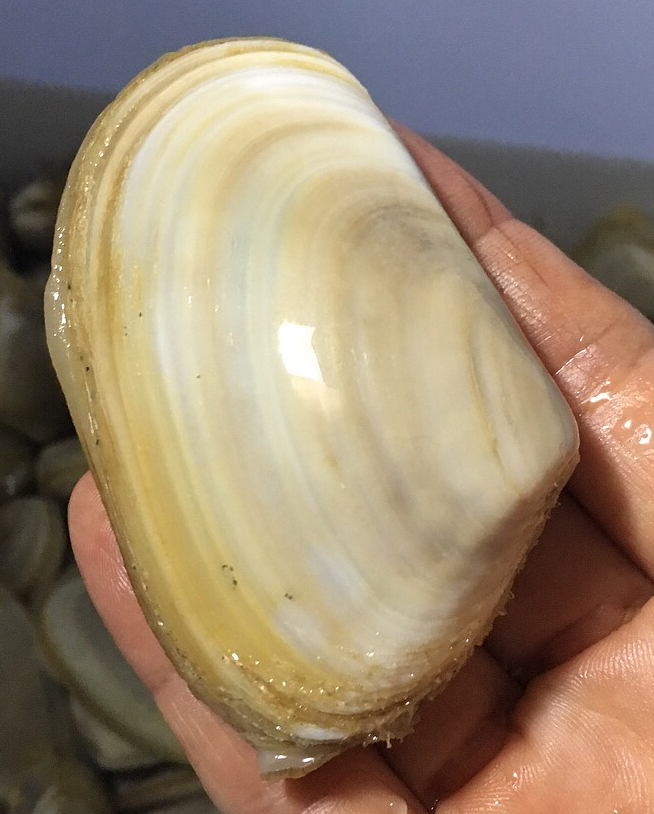tuatua: (42, 28, 588, 769)
